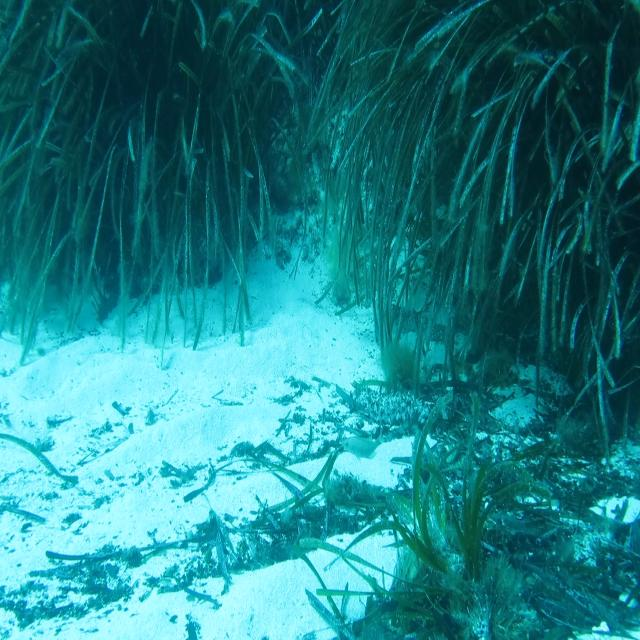BN: (341, 426, 386, 466)
vegetation: (0, 0, 640, 360), (368, 358, 639, 640)
